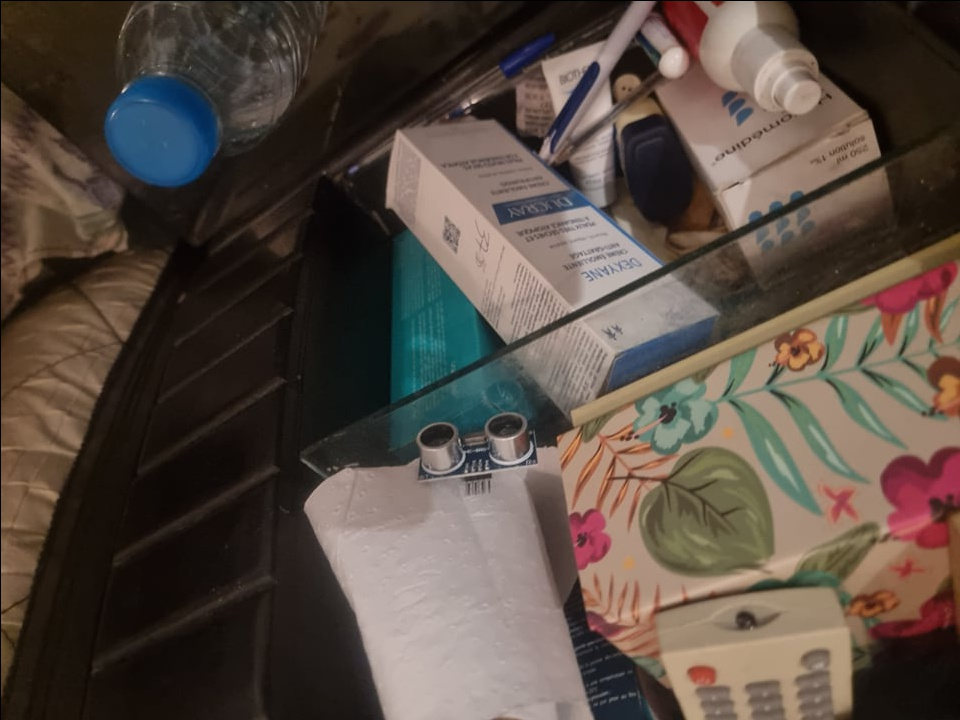SENSOR: (411, 406, 541, 475)
